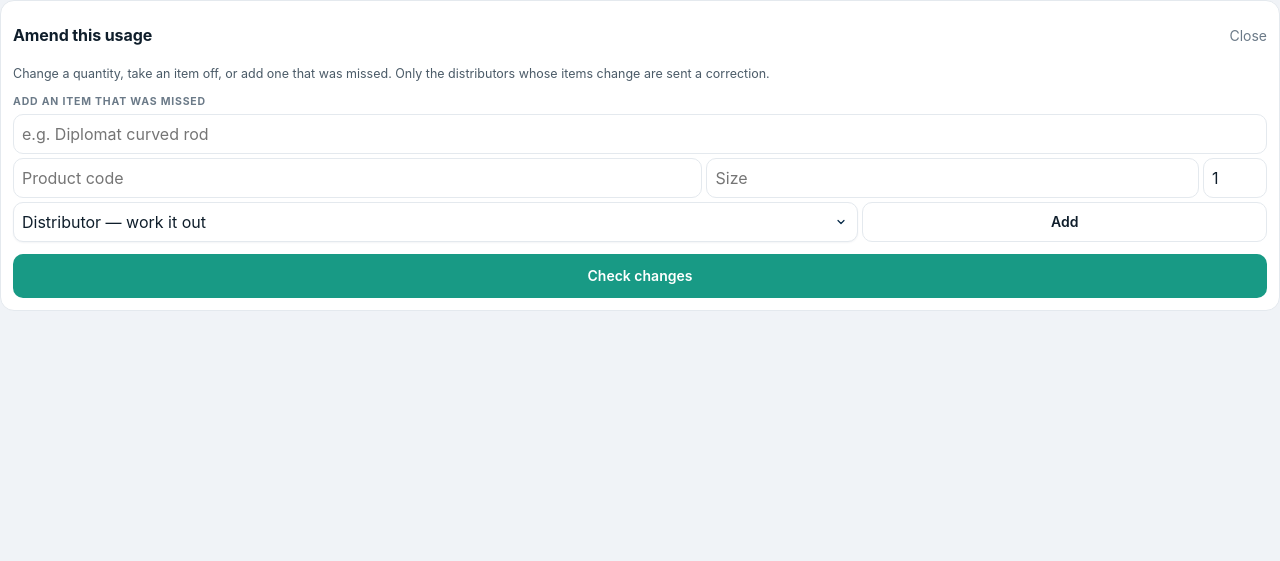
it: amending a sent usage › will not send a rod with no code until it is given one — and offers it
This screenshot has width=1280, height=561.
Expected: the text "Change a quantity" is shown, [13, 66, 770, 81]
Step 1. Type "Diplomat curved rods" into the field named "Item" → (640, 134), box [13, 114, 1267, 154]
Step 2. Type "105" into the field labelled "Size" → (953, 178), box [706, 158, 1199, 198]
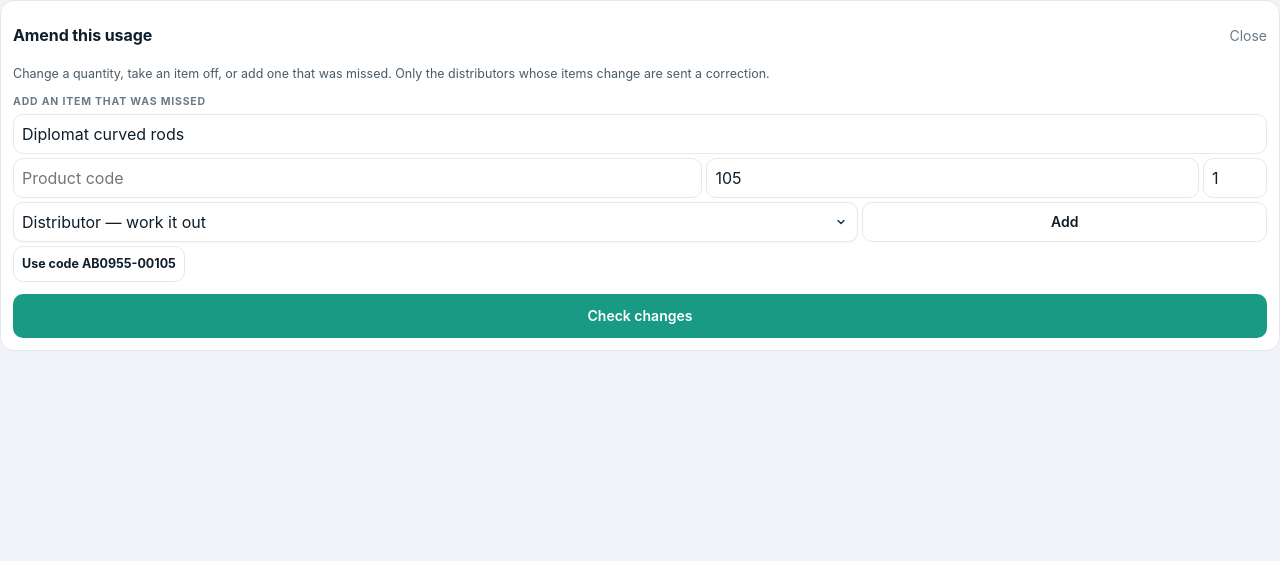
Step 3. Replace the text in the number field named "Quantity" with "2" → (1235, 178), box [1203, 158, 1267, 198]
Step 4. Click the button "Add" → (1065, 222), box [862, 202, 1267, 242]
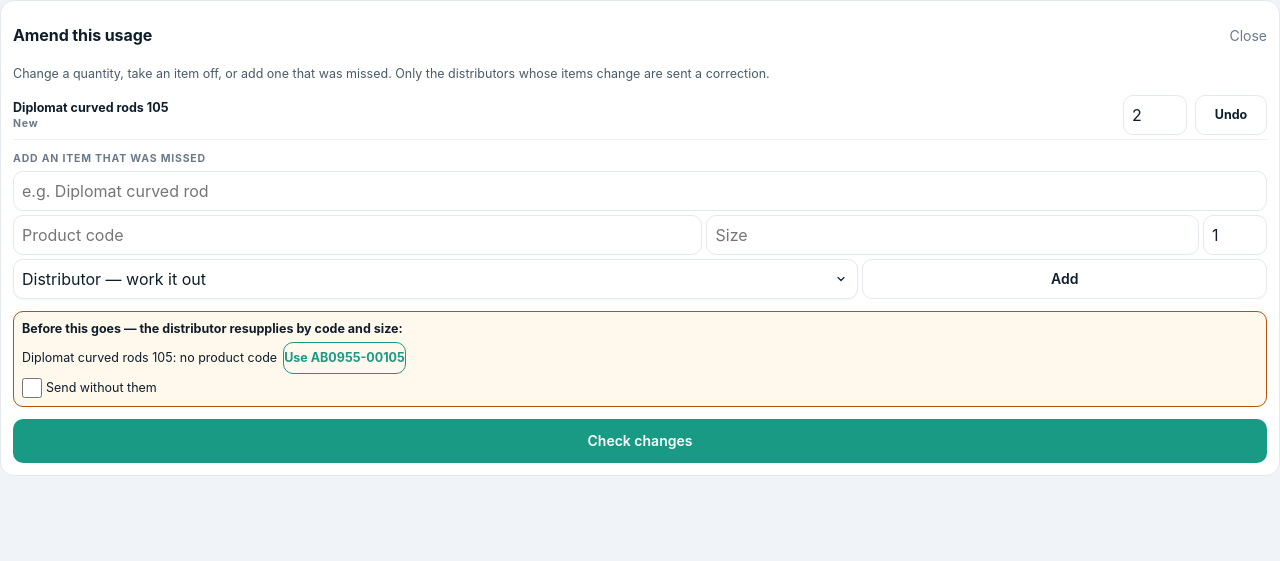
Now the text "no product code" is shown, box [180, 350, 277, 365]
Step 5. Click the button "Check changes" → (640, 441), box [13, 419, 1267, 463]
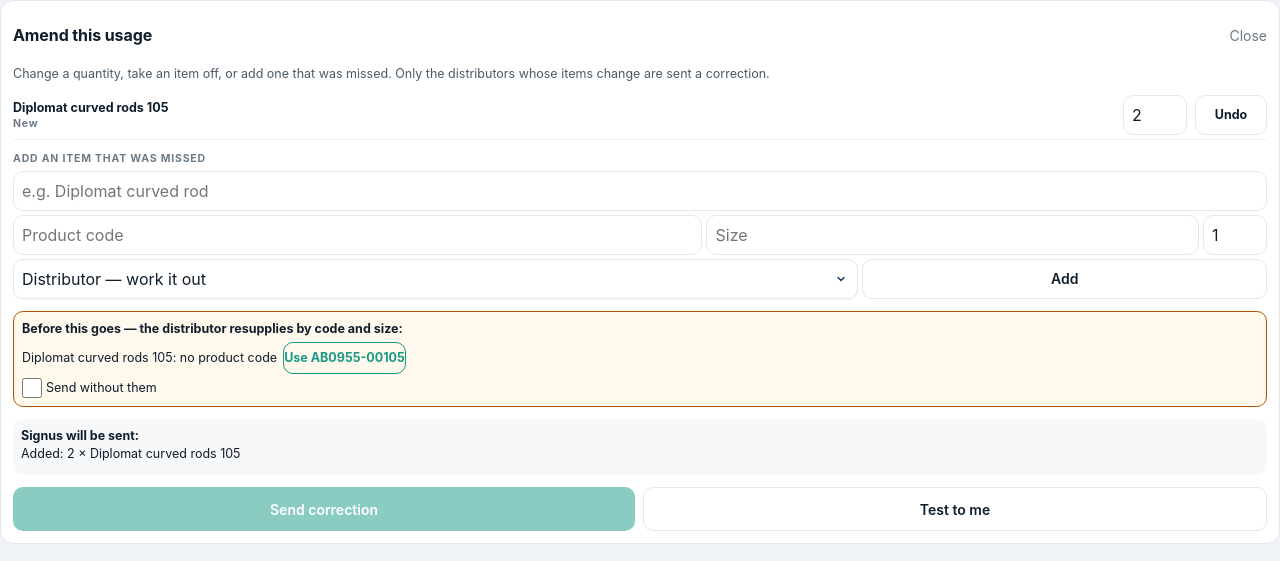
Now the text "Signus will be sent:" is shown, box [21, 428, 139, 443]
Now the button named "Check changes" is disabled, box [13, 487, 635, 531]
Step 6. Click the button "Use AB0955-00105" → (344, 358), box [283, 342, 406, 374]
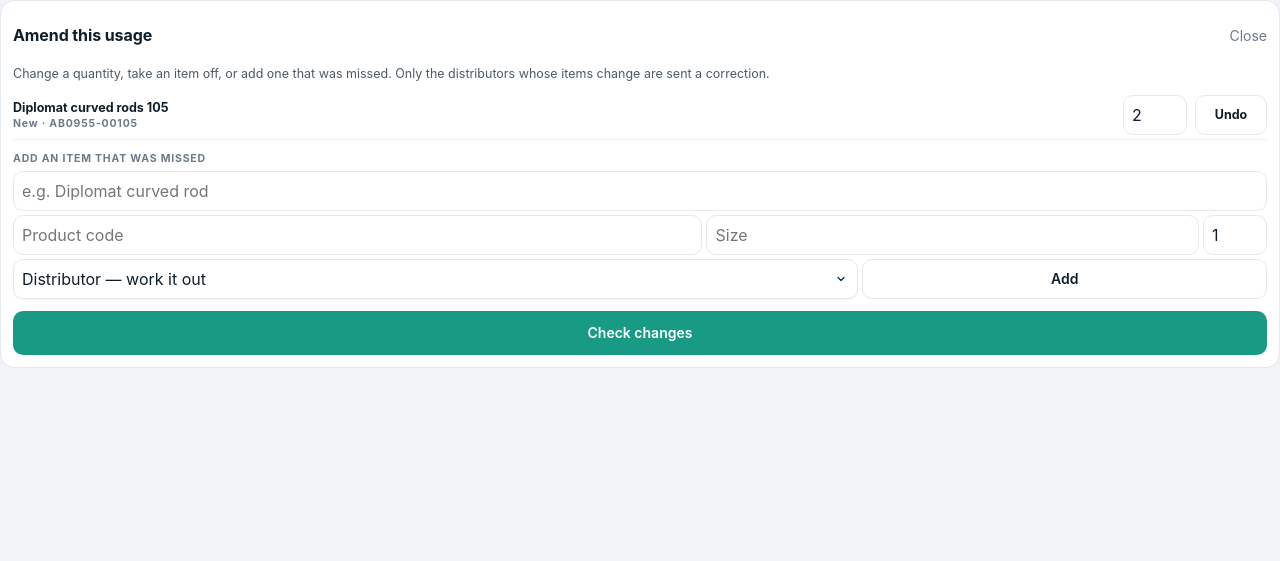
Step 7. Click the button "Check changes" → (640, 333), box [13, 311, 1267, 355]
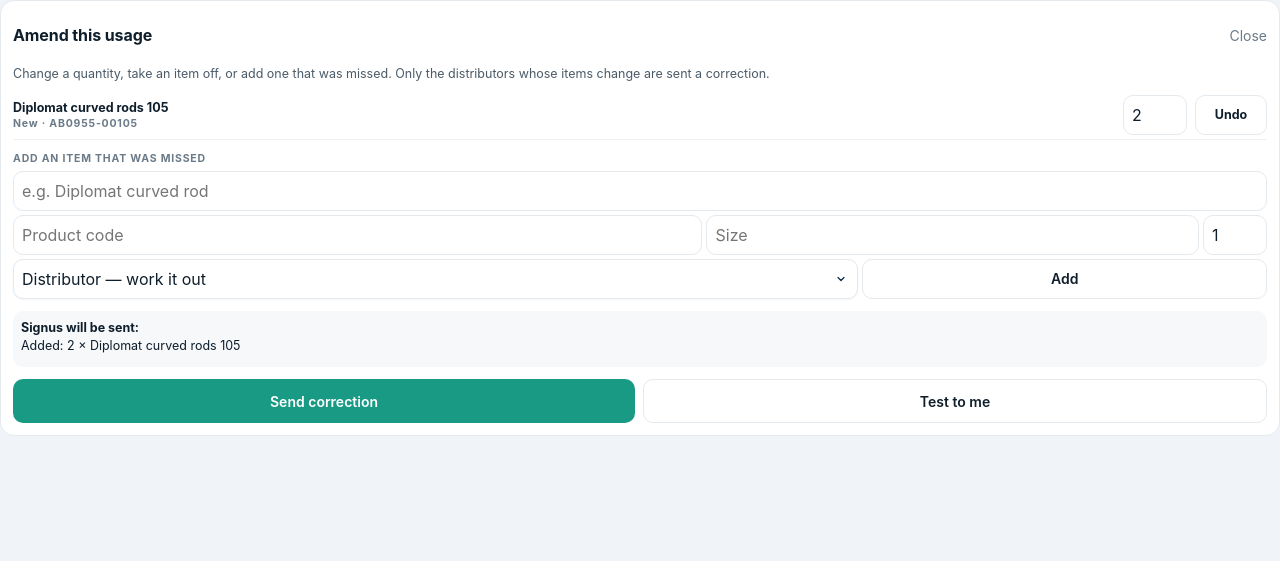
Now the text "Signus will be sent:" is shown, box [21, 320, 139, 335]
Step 8. Click the button "Send correction" → (324, 401), box [13, 379, 635, 423]
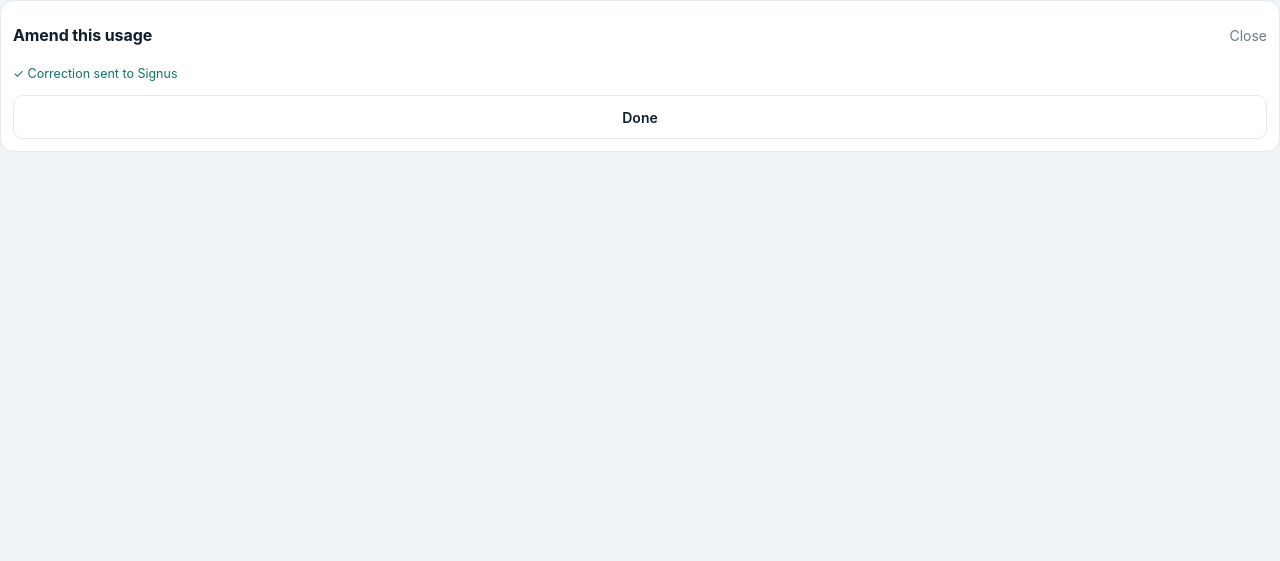
Now the text "✓ Correction sent to Signus" is shown, box [13, 66, 178, 81]
